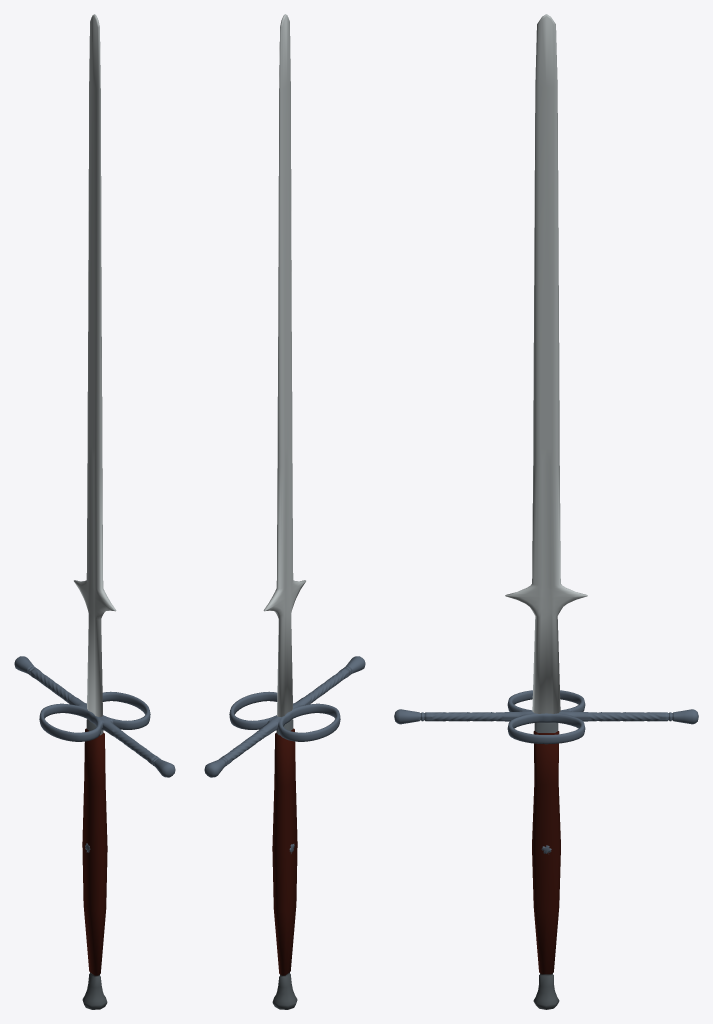
3 views of the same model, side by side, from view 1: azimuth 30°, elevation 25°; view 2: azimuth 150°, elevation 25°; view 3: azimuth 270°, elevation 25° (orthographic).
Parts seen in each view (by area): view 1: zweinhander_0; view 2: zweinhander_0; view 3: zweinhander_0.
Boxes of the visible parts, box(x1,y1,x2,y2) form: zweinhander_0: box(14, 14, 175, 1009); zweinhander_0: box(204, 14, 365, 1009); zweinhander_0: box(394, 14, 698, 1009).
Size of the model in its own units: 1.87 by 18.23 by 5.06.
